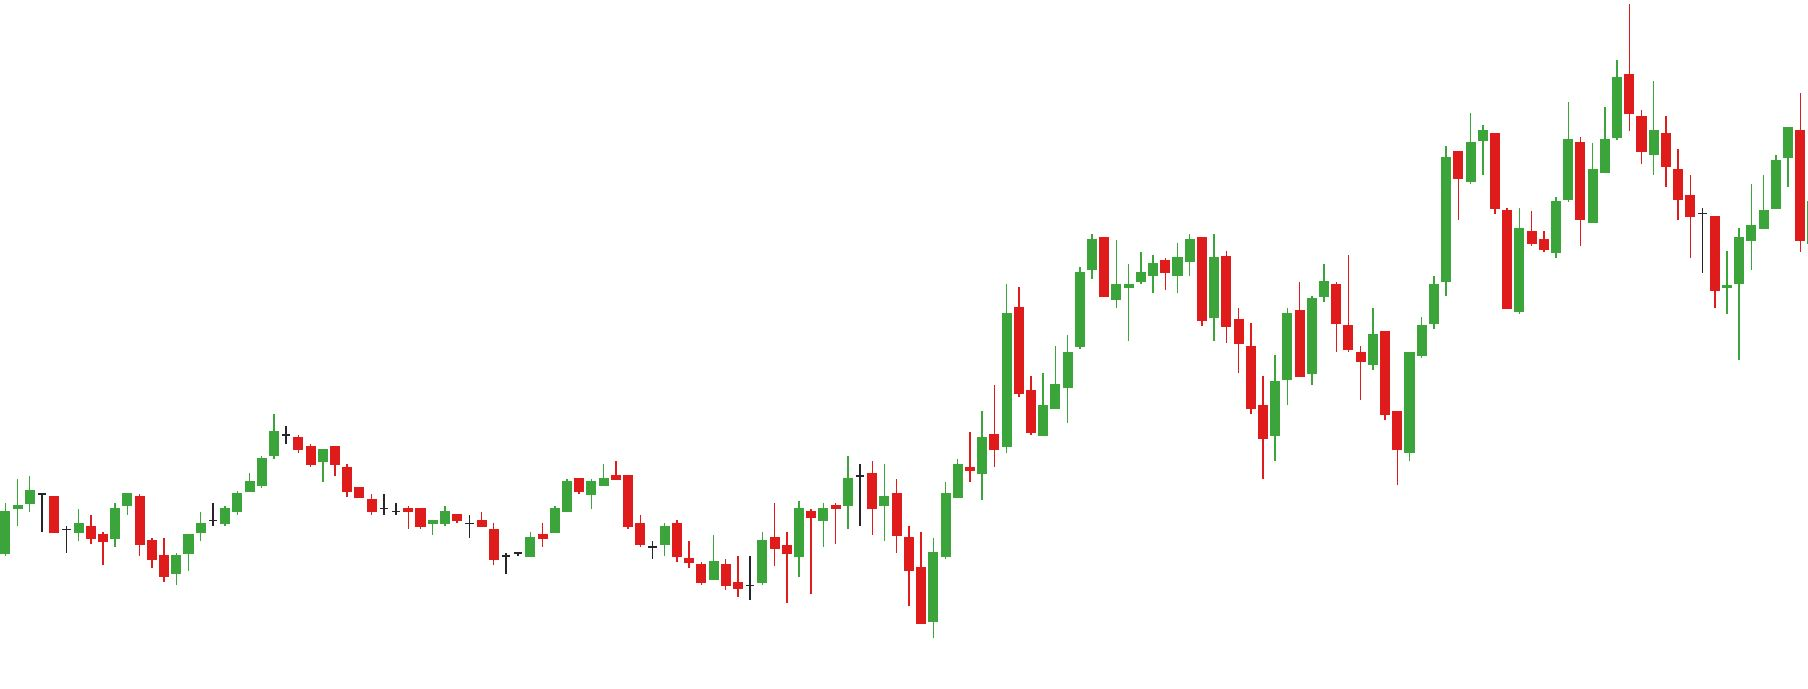buy: (1258, 347, 1402, 489), (781, 522, 939, 629)
sell: (1112, 237, 1210, 298)
